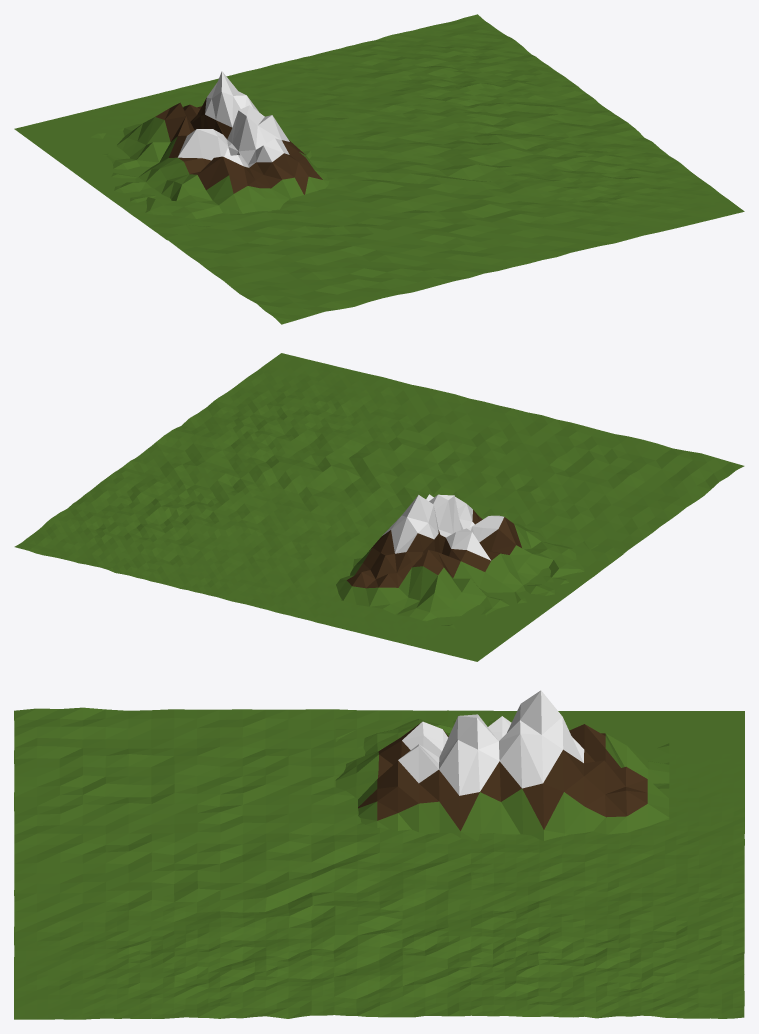
File: mountains.glb
The picture shows the model from 3 angles, top to bottom: view 1: azimuth 30°, elevation 25°; view 2: azimuth 150°, elevation 25°; view 3: azimuth 270°, elevation 25°; orthographic projection. The views are drawn at different scales.
Visible parts, largest first — view 1: Terrain, Mountain; view 2: Terrain, Mountain; view 3: Terrain, Mountain.
Part boxes in pixels (<box>): Terrain: <box>14,14,744,324</box>; Mountain: <box>91,71,329,240</box>; Terrain: <box>14,353,744,661</box>; Mountain: <box>336,494,623,629</box>; Terrain: <box>14,707,744,1019</box>; Mountain: <box>335,690,669,841</box>.
Bounding box in the file's own units: 373 × 63.62 × 372.
